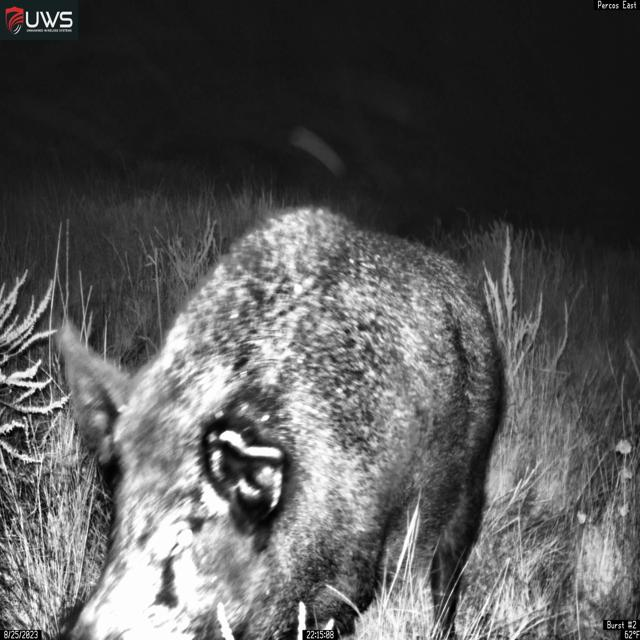pig: (56, 203, 502, 640)
